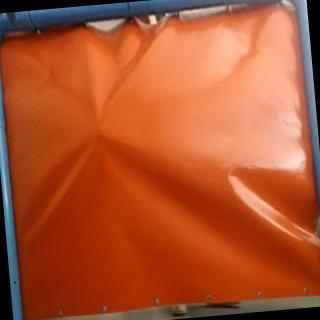Hit-hRxx: (90, 118, 110, 143)
